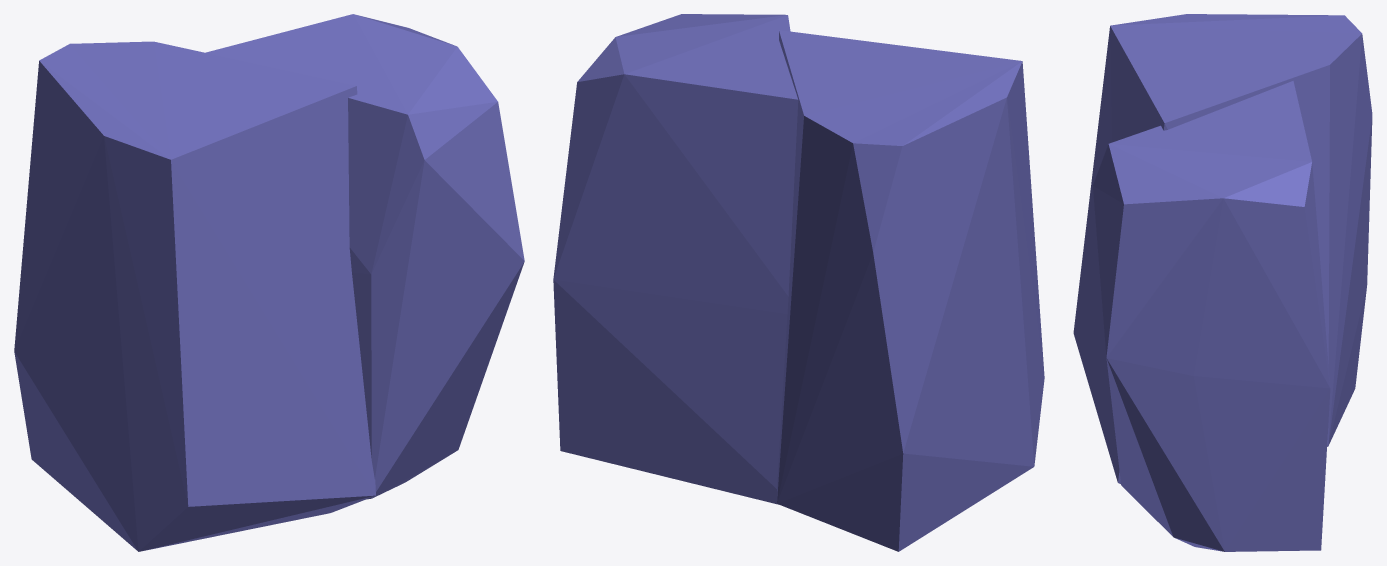
Rendered from Cliff_Block_03_Collider_01.FBX.
The picture shows the model from 3 angles, left to right: view 1: azimuth 30°, elevation 25°; view 2: azimuth 150°, elevation 25°; view 3: azimuth 270°, elevation 25°; orthographic projection. The views are drawn at different scales.
Parts seen in each view (by area): view 1: COLLIDER1, COLLIDER2; view 2: COLLIDER1, COLLIDER2; view 3: COLLIDER2, COLLIDER1.
Part boxes in pixels (x1,y1,x2,y2): COLLIDER1: (14,41,375,551); COLLIDER2: (206,14,524,499); COLLIDER1: (777,30,1044,551); COLLIDER2: (553,14,798,504); COLLIDER2: (1093,81,1330,551); COLLIDER1: (1073,14,1372,483).
Bounding box in the file's own units: 319 × 348 × 234.
